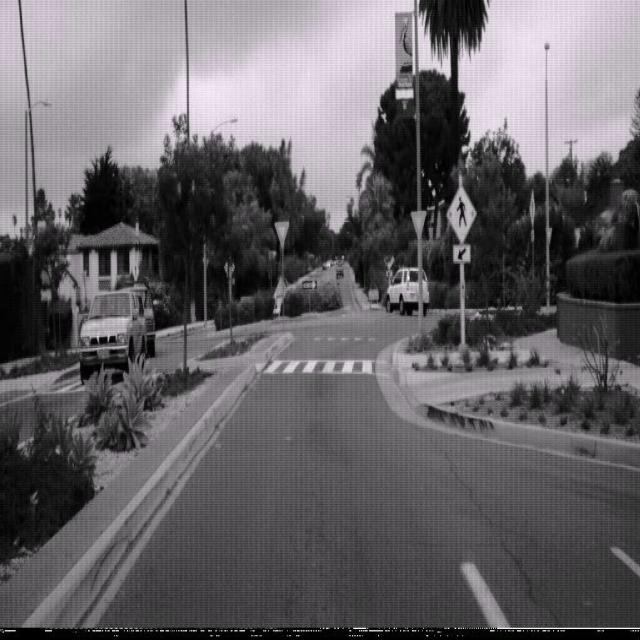pedestrianCrossing: (446, 181, 476, 244)
yield: (410, 210, 427, 239), (274, 220, 290, 248)
